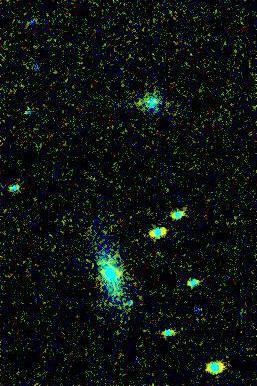star: (88, 250, 118, 280)
